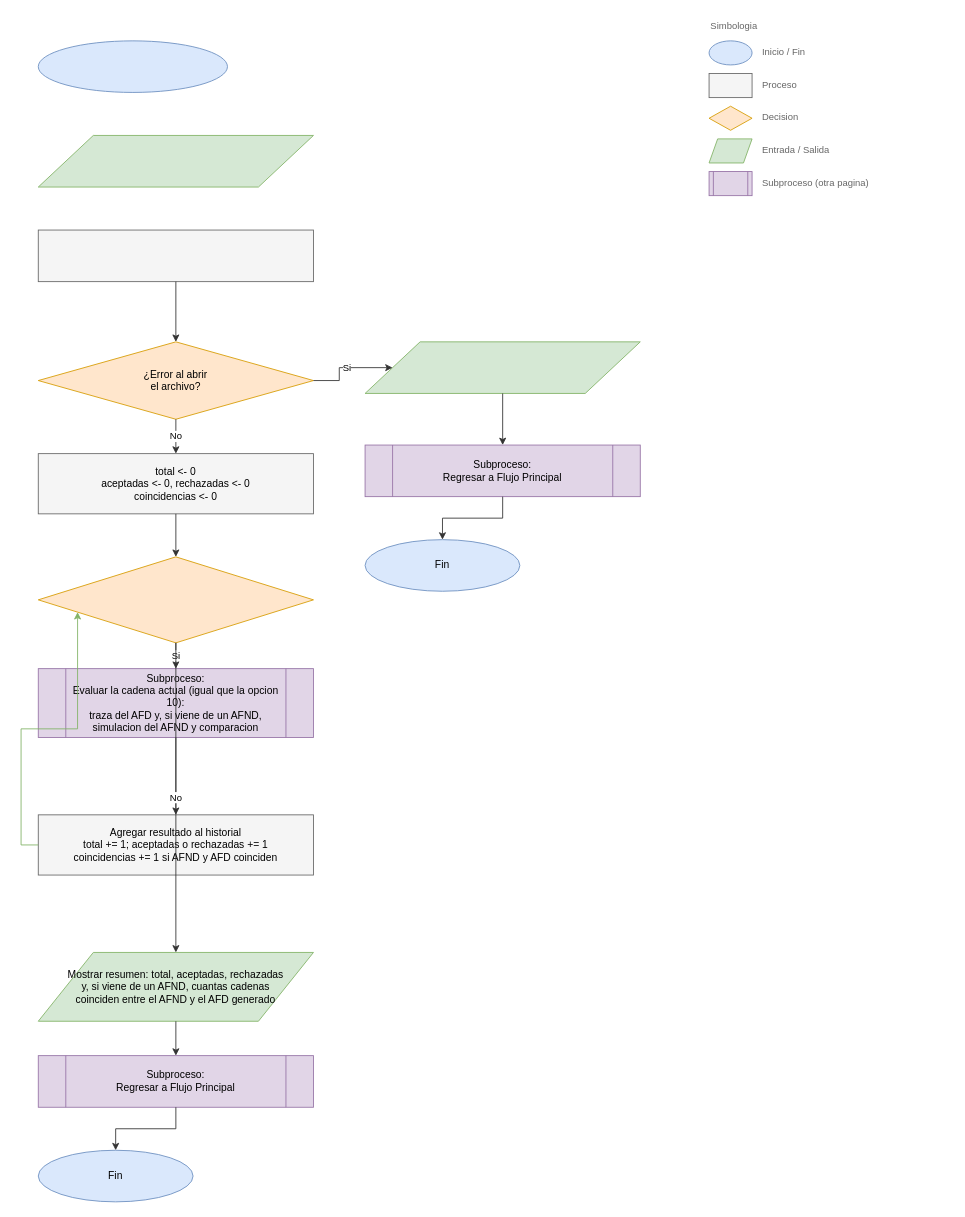
The diagram is 965 pixels wide and 1217 high, and some of its shapes have lost their labels. Here are the shapes that lost their labels. From the top down, the centre of each, then its label:
pixel 132 66: Inicio: Evaluar archivo de cadenas
pixel 175 161: Pedir ruta del archivo de cadenas
pixel 175 255: Intentar abrir y leer todas las lineas (una cadena por linea)
pixel 502 367: Mostrar: 'No se pudo abrir el archivo'
pixel 175 599: ¿Quedan cadenas por evaluar?
